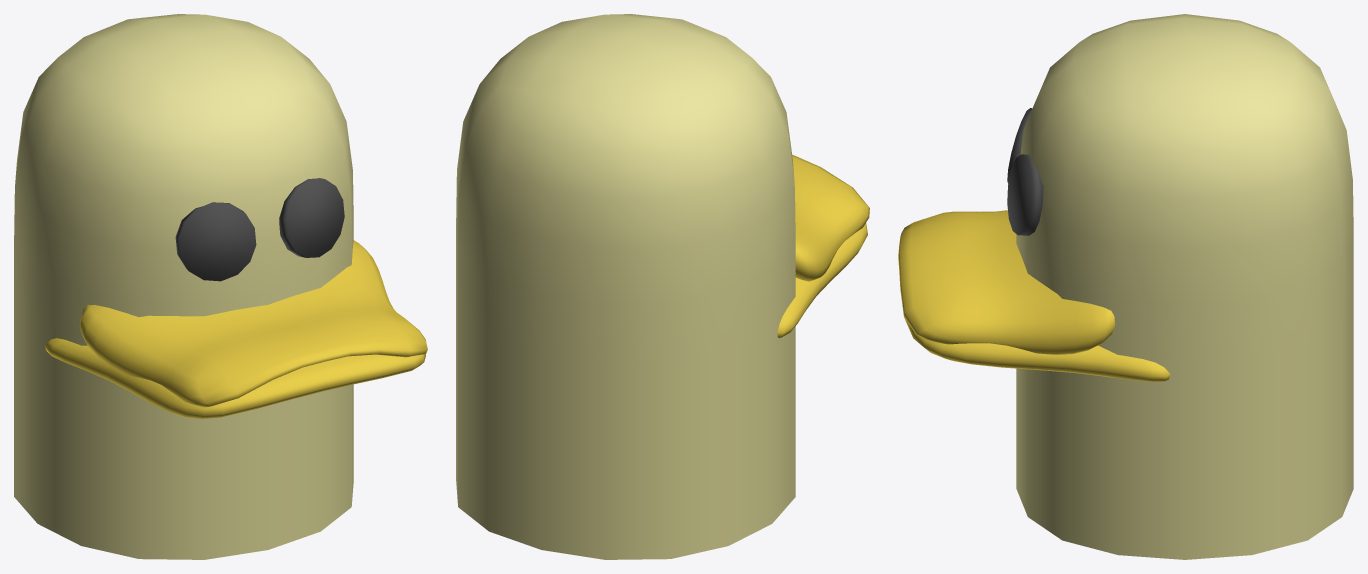
File: bonker.glb
The picture shows the model from 3 angles, left to right: view 1: azimuth 30°, elevation 25°; view 2: azimuth 150°, elevation 25°; view 3: azimuth 270°, elevation 25°; orthographic projection.
Visible parts, largest first — view 1: Cube, Cube.001, Circle, Cube.003; view 2: Cube, Cube.001, Cube.003; view 3: Cube, Cube.001, Cube.003, Circle.
Boxes of the visible parts, x1,y1,x2,y2 form: Cube: [14, 14, 353, 559]; Cube.001: [79, 240, 427, 407]; Circle: [175, 178, 344, 281]; Cube.003: [44, 338, 425, 418]; Cube: [456, 14, 795, 559]; Cube.001: [792, 154, 869, 281]; Cube.003: [777, 223, 867, 338]; Cube: [1016, 14, 1353, 559]; Cube.001: [898, 210, 1115, 354]; Cube.003: [904, 318, 1170, 381]; Circle: [1007, 108, 1043, 235].
Size of the model in its own units: 1.89 by 2.7 by 2.48.
